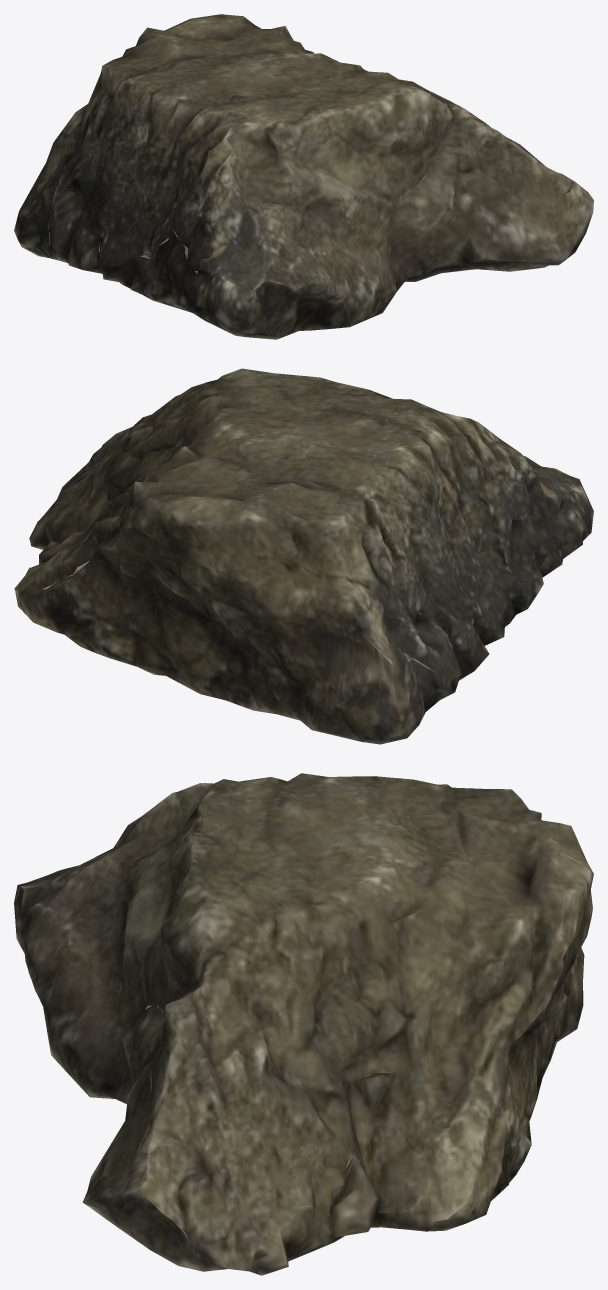
Rendered from rock_moss_set_02_1.glb.
3 renders of one model, top to bottom at view 1: azimuth 30°, elevation 25°; view 2: azimuth 150°, elevation 25°; view 3: azimuth 270°, elevation 25°, orthographic. The views are drawn at different scales.
Visible parts, largest first — view 1: rock_moss_set_02_rock08; view 2: rock_moss_set_02_rock08; view 3: rock_moss_set_02_rock08.
Part boxes in pixels (x1,y1,x2,y2): rock_moss_set_02_rock08: (14, 14, 593, 339); rock_moss_set_02_rock08: (14, 368, 593, 744); rock_moss_set_02_rock08: (14, 773, 593, 1275).
Bounding box in the file's own units: 1.21 × 0.5262 × 0.9834.
1 material, 1 textured.
